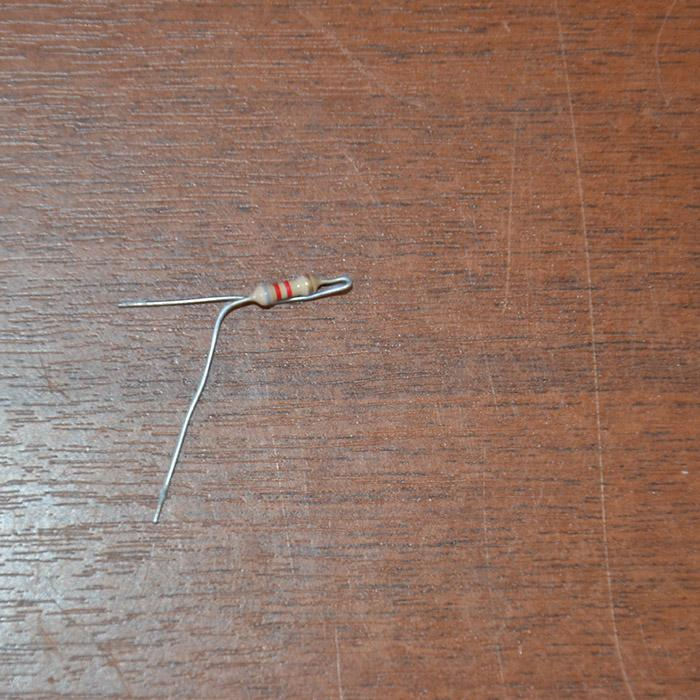resistor: (251, 273, 320, 308)
